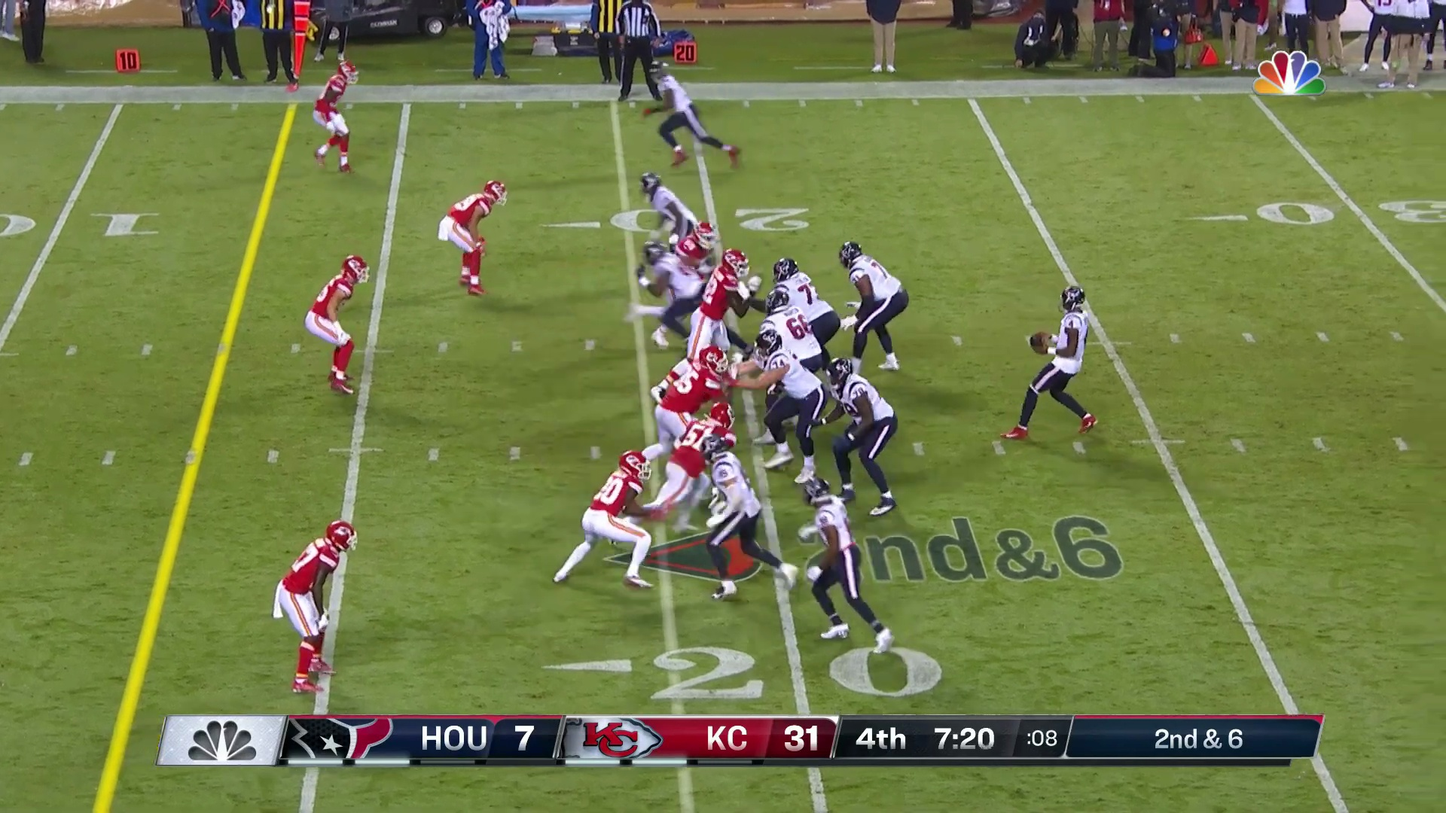Player: (755, 319, 826, 474), (705, 449, 763, 597), (759, 258, 836, 369), (651, 343, 730, 449), (645, 224, 714, 345), (688, 250, 748, 388), (669, 219, 721, 311)
